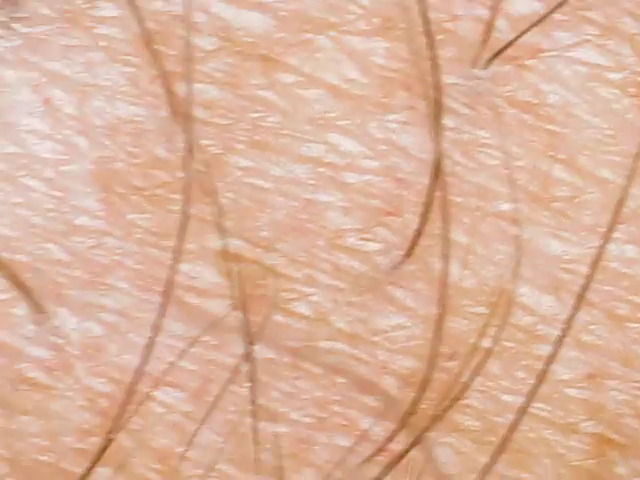folicle: (385, 241, 416, 279), (474, 55, 503, 80), (463, 51, 486, 78)
